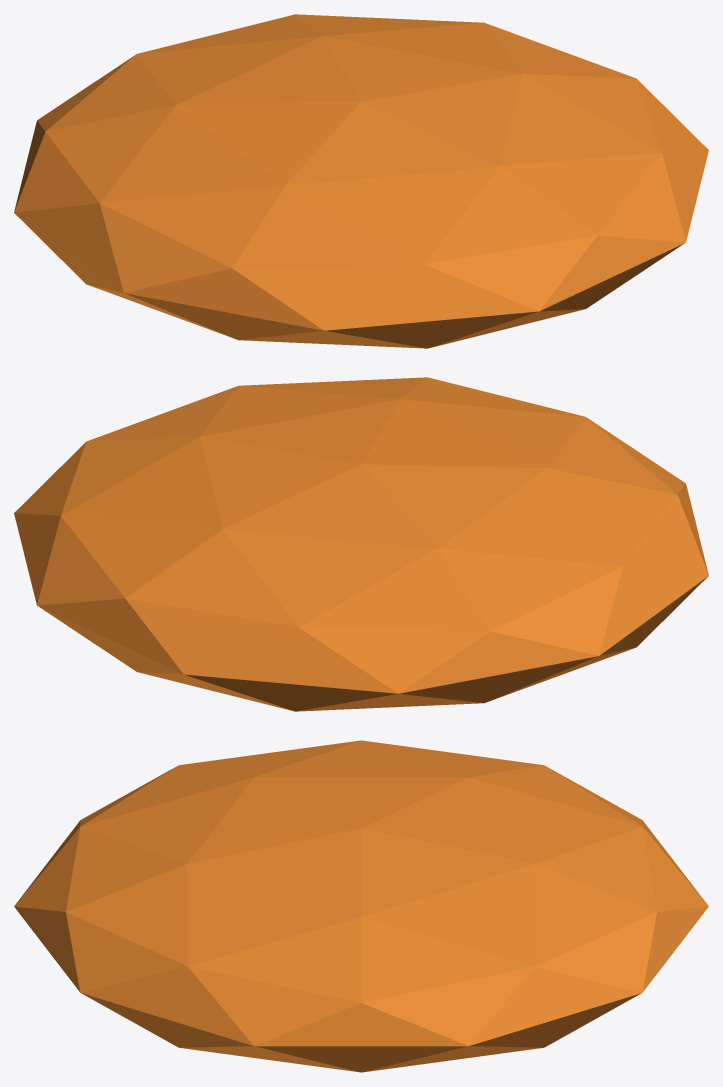
The model's file is Fire_Ground.fbx.
3 views of the same model, one above another, from view 1: azimuth 30°, elevation 25°; view 2: azimuth 150°, elevation 25°; view 3: azimuth 270°, elevation 25° (orthographic). The views are drawn at different scales.
Visible parts, largest first — view 1: Circle; view 2: Circle; view 3: Circle.
Boxes of the visible parts, x1,y1,x2,y2 form: Circle: (14,14,708,348); Circle: (14,377,708,711); Circle: (14,740,708,1072).
Bounding box in the file's own units: 1438 × 376 × 1512.
